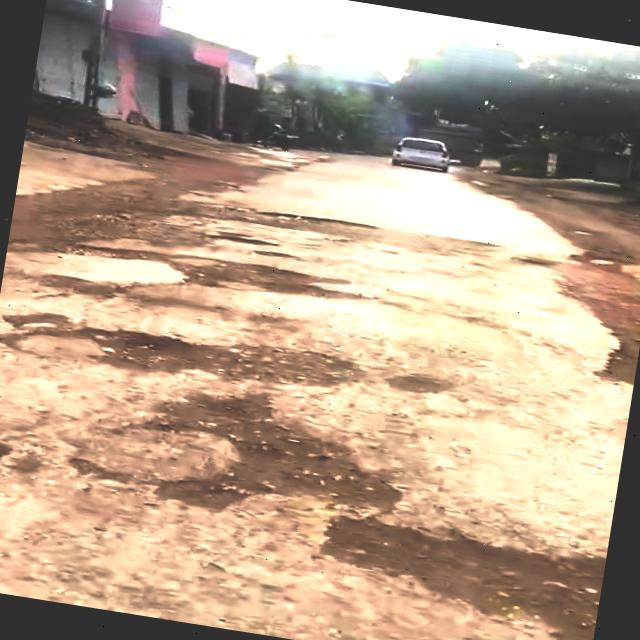pothole: (80, 366, 417, 542), (0, 294, 365, 416), (316, 506, 607, 640), (61, 229, 364, 314), (28, 268, 139, 306), (0, 431, 25, 486)
